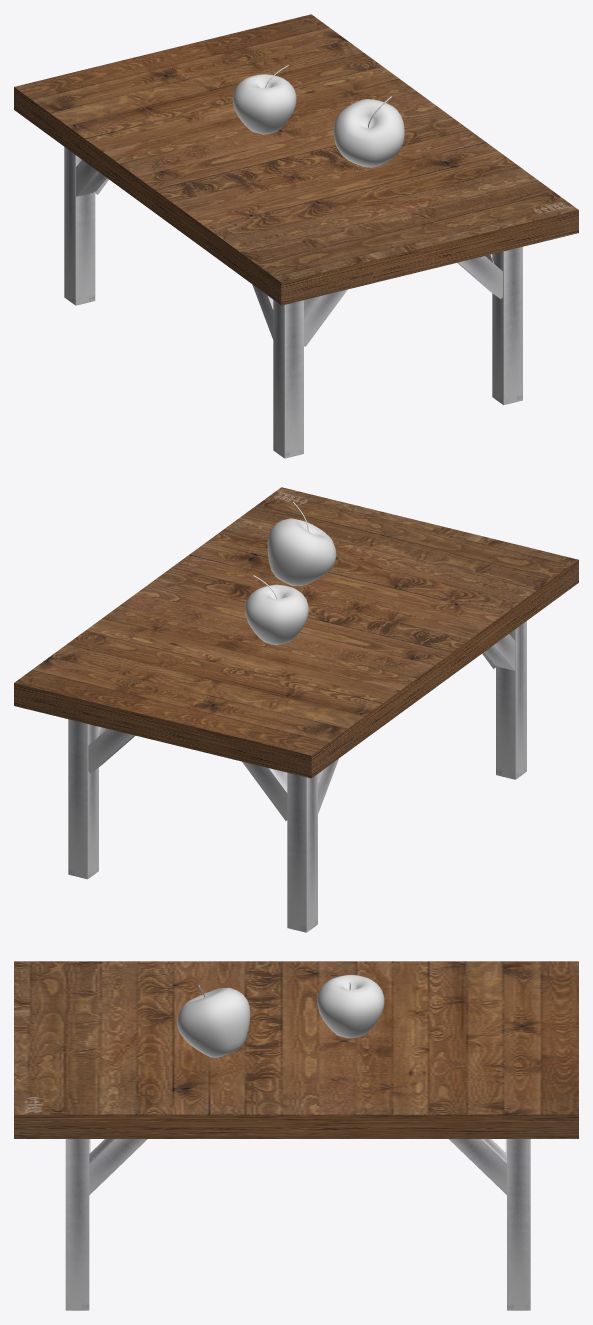
The model's file is desk.fbx.
3 renders of one model, top to bottom at view 1: azimuth 30°, elevation 25°; view 2: azimuth 150°, elevation 25°; view 3: azimuth 270°, elevation 25°, orthographic. The views are drawn at different scales.
Visible parts, largest first — view 1: Box013, Box004, Box001, Box010, Sphere002, Sphere001, Box005, Box002, Box012; view 2: Box013, Box010, Box007, Box004, Sphere002, Sphere001, Box011, Box008, Box006; view 3: Box013, Box001, Box007, Sphere002, Sphere001, Box003, Box009.
Part boxes in pixels (x1=…): Box013: x1=14, y1=14, x2=578, y2=305; Box004: x1=273, y1=300, x2=303, y2=458; Box001: x1=492, y1=247, x2=522, y2=405; Box010: x1=64, y1=147, x2=95, y2=305; Sphere002: x1=333, y1=99, x2=404, y2=167; Sphere001: x1=233, y1=74, x2=296, y2=134; Box005: x1=304, y1=289, x2=347, y2=346; Box002: x1=457, y1=256, x2=502, y2=298; Box012: x1=76, y1=160, x2=106, y2=196; Box013: x1=14, y1=487, x2=578, y2=778; Box010: x1=287, y1=772, x2=317, y2=932; Box007: x1=68, y1=719, x2=98, y2=879; Box004: x1=496, y1=621, x2=526, y2=779; Sphere002: x1=267, y1=518, x2=336, y2=586; Sphere001: x1=245, y1=584, x2=308, y2=644; Box011: x1=242, y1=761, x2=287, y2=820; Box008: x1=88, y1=729, x2=135, y2=773; Box006: x1=484, y1=634, x2=515, y2=670; Box013: x1=14, y1=961, x2=578, y2=1138; Box001: x1=65, y1=1139, x2=89, y2=1310; Box007: x1=507, y1=1139, x2=530, y2=1310; Sphere002: x1=177, y1=987, x2=250, y2=1057; Sphere001: x1=317, y1=974, x2=384, y2=1038; Box003: x1=89, y1=1139, x2=147, y2=1194; Box009: x1=449, y1=1139, x2=506, y2=1194.
Size of the model in its own units: 229 by 202 by 357.
Materials: 2 (2 with a texture image).
